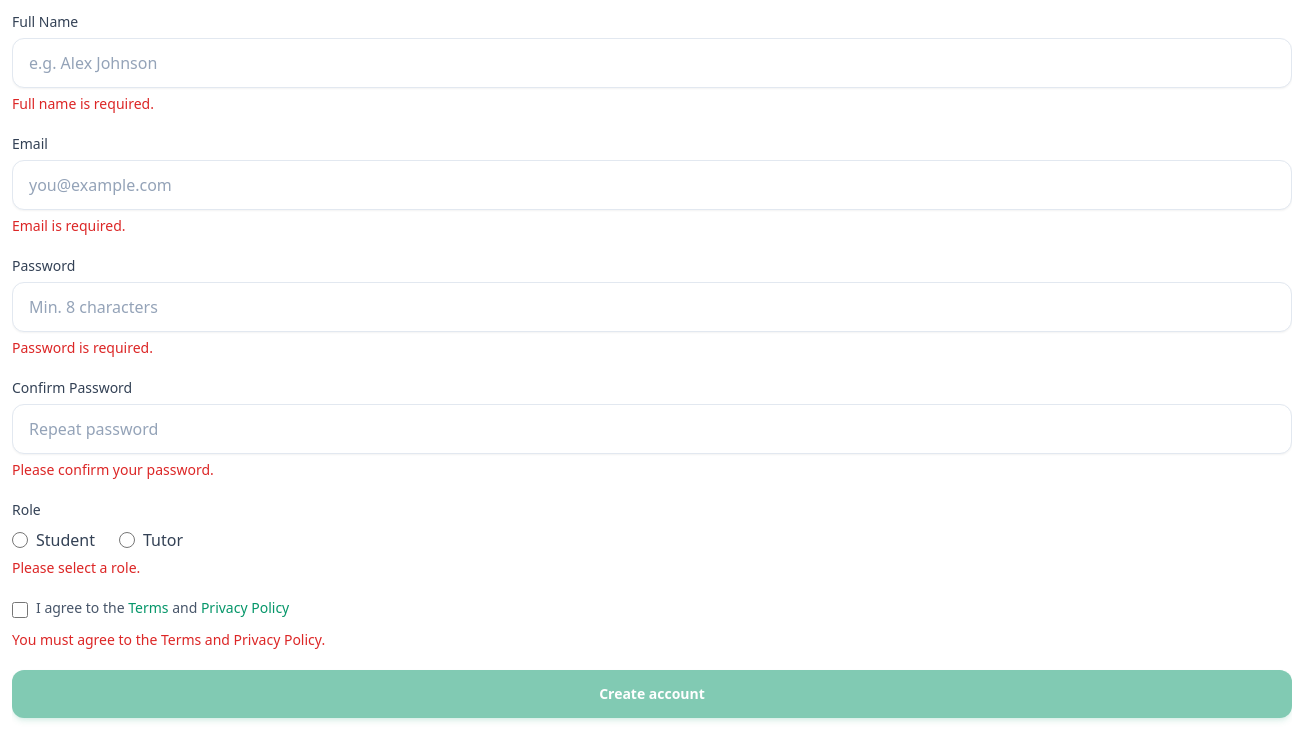
Test: RegisterForm › shows email format error for an invalid email (NFR4)
Type "notanemail" into the field labelled "Email" at (652, 185), box [12,160,1292,210]
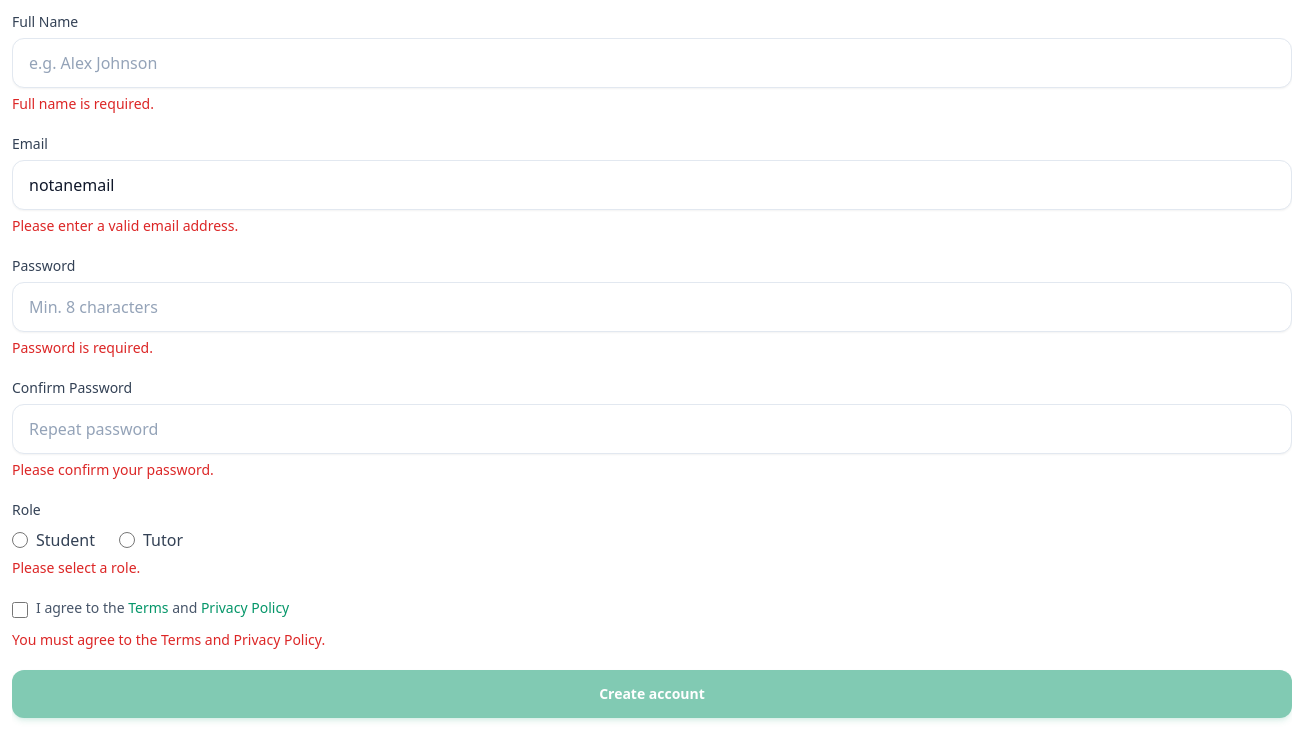
Check: the text "Please enter a valid email address." is shown, box [12,216,238,235]
